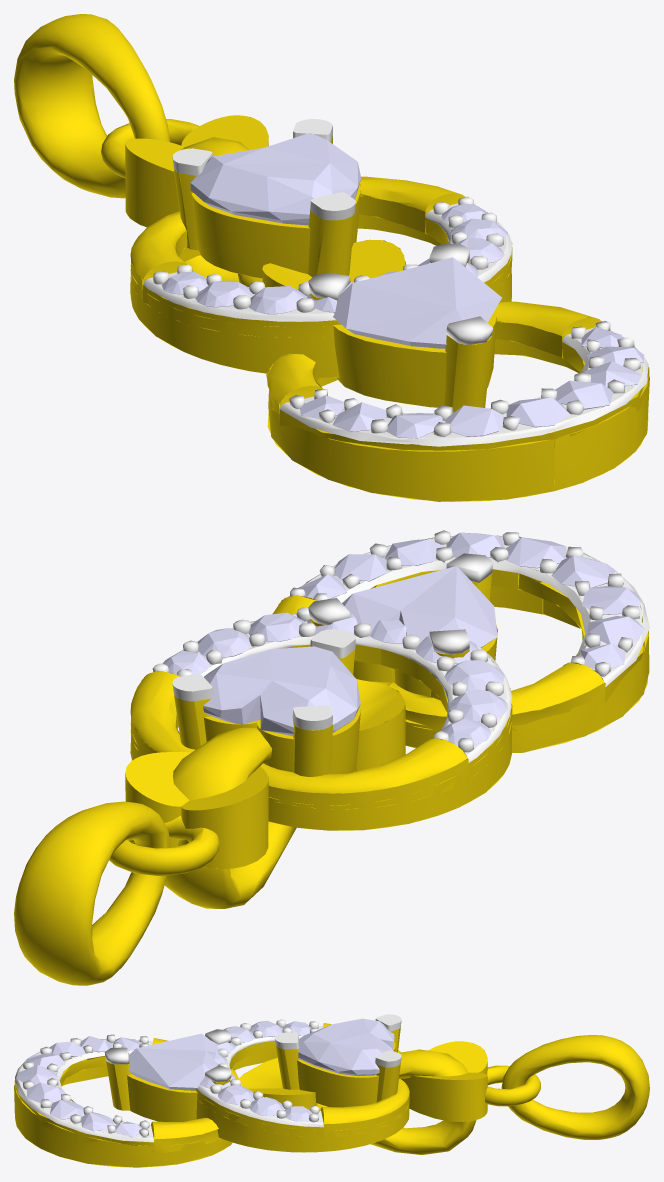
File: DPN-D000675390.glb
3 renders of one model, top to bottom at view 1: azimuth 30°, elevation 25°; view 2: azimuth 150°, elevation 25°; view 3: azimuth 270°, elevation 25°, orthographic. The views are drawn at different scales.
Parts seen in each view (by area): view 1: highPolyMesh, lowPolyMesh; view 2: highPolyMesh, lowPolyMesh; view 3: highPolyMesh, lowPolyMesh.
Boxes of the visible parts, left/top/right/bottom form: highPolyMesh: left=14, top=14, right=512, bottom=377; lowPolyMesh: left=172, top=137, right=649, bottom=501; highPolyMesh: left=14, top=607, right=512, bottom=985; lowPolyMesh: left=164, top=530, right=649, bottom=908; highPolyMesh: left=195, top=1014, right=649, bottom=1152; lowPolyMesh: left=14, top=1029, right=476, bottom=1167.
Size of the model in its own units: 0.00965 by 0.00534 by 0.0259.
